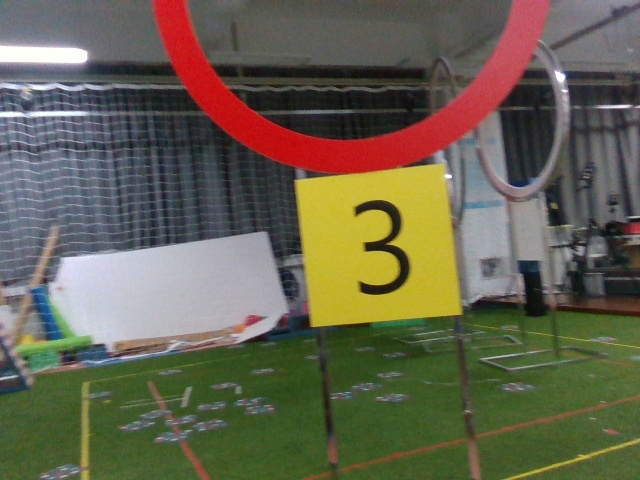target: (305, 164, 452, 321)
